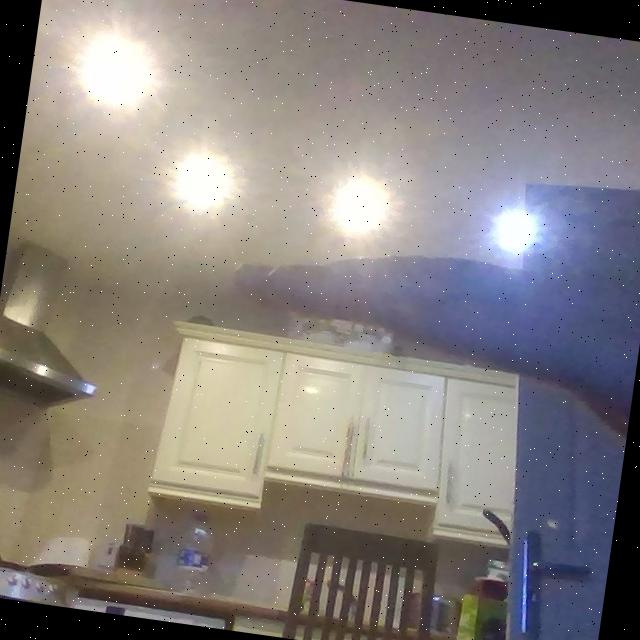papper: (223, 224, 622, 396)
